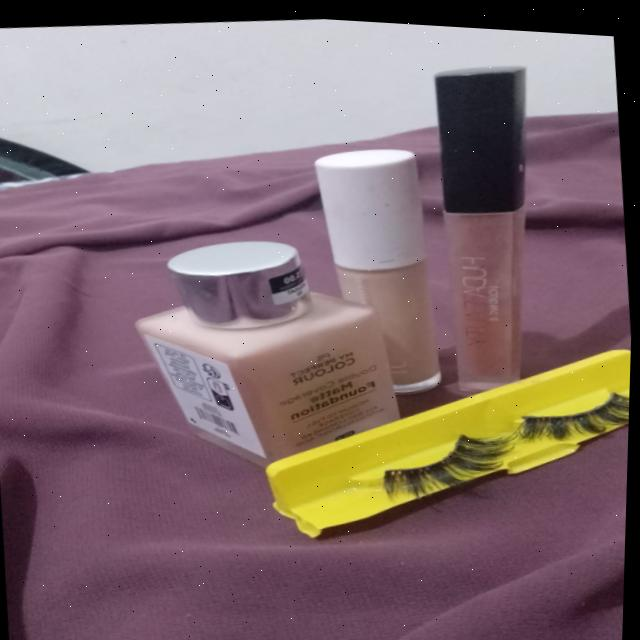concealer: (287, 120, 471, 394)
eyelash curler: (368, 409, 521, 515), (507, 365, 632, 457)
foundation: (83, 209, 417, 471)
lip gloss: (394, 40, 577, 392)
